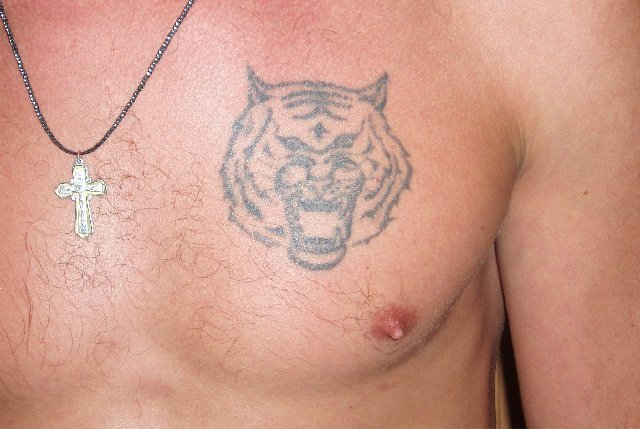tatu5_tigr: (214, 59, 418, 274)
